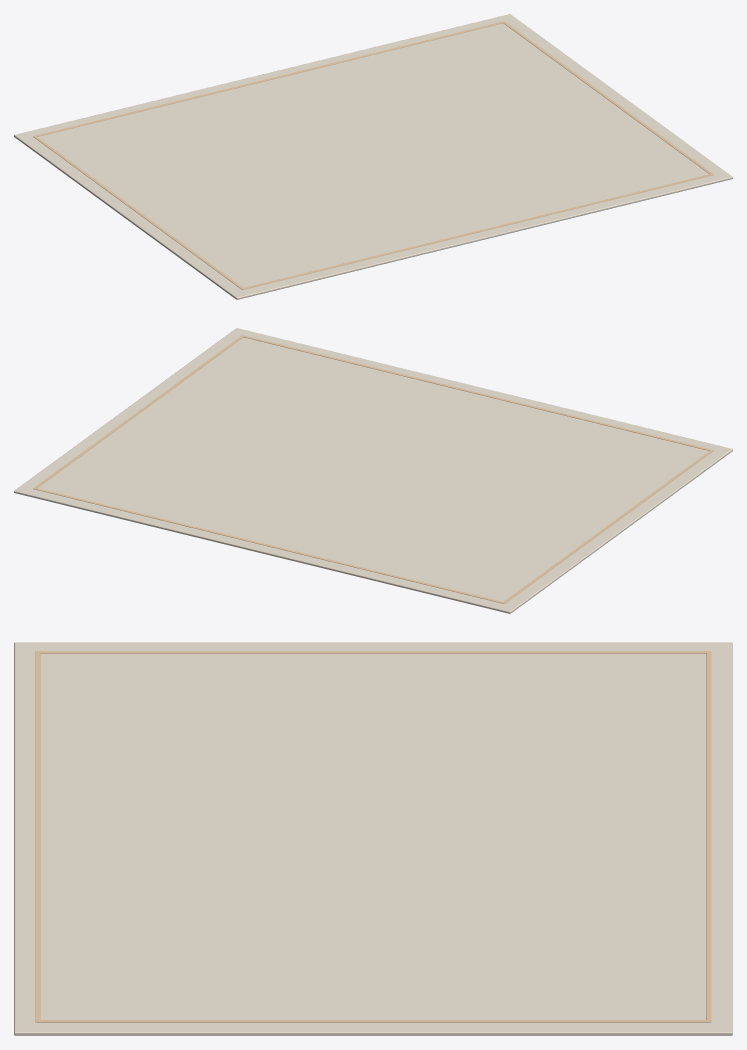
File: suite_rug_border.glb
3 renders of one model, top to bottom at view 1: azimuth 30°, elevation 25°; view 2: azimuth 150°, elevation 25°; view 3: azimuth 270°, elevation 25°, orthographic. The views are drawn at different scales.
Size of the model in its own units: 5.4 by 0.029 by 4.2.
